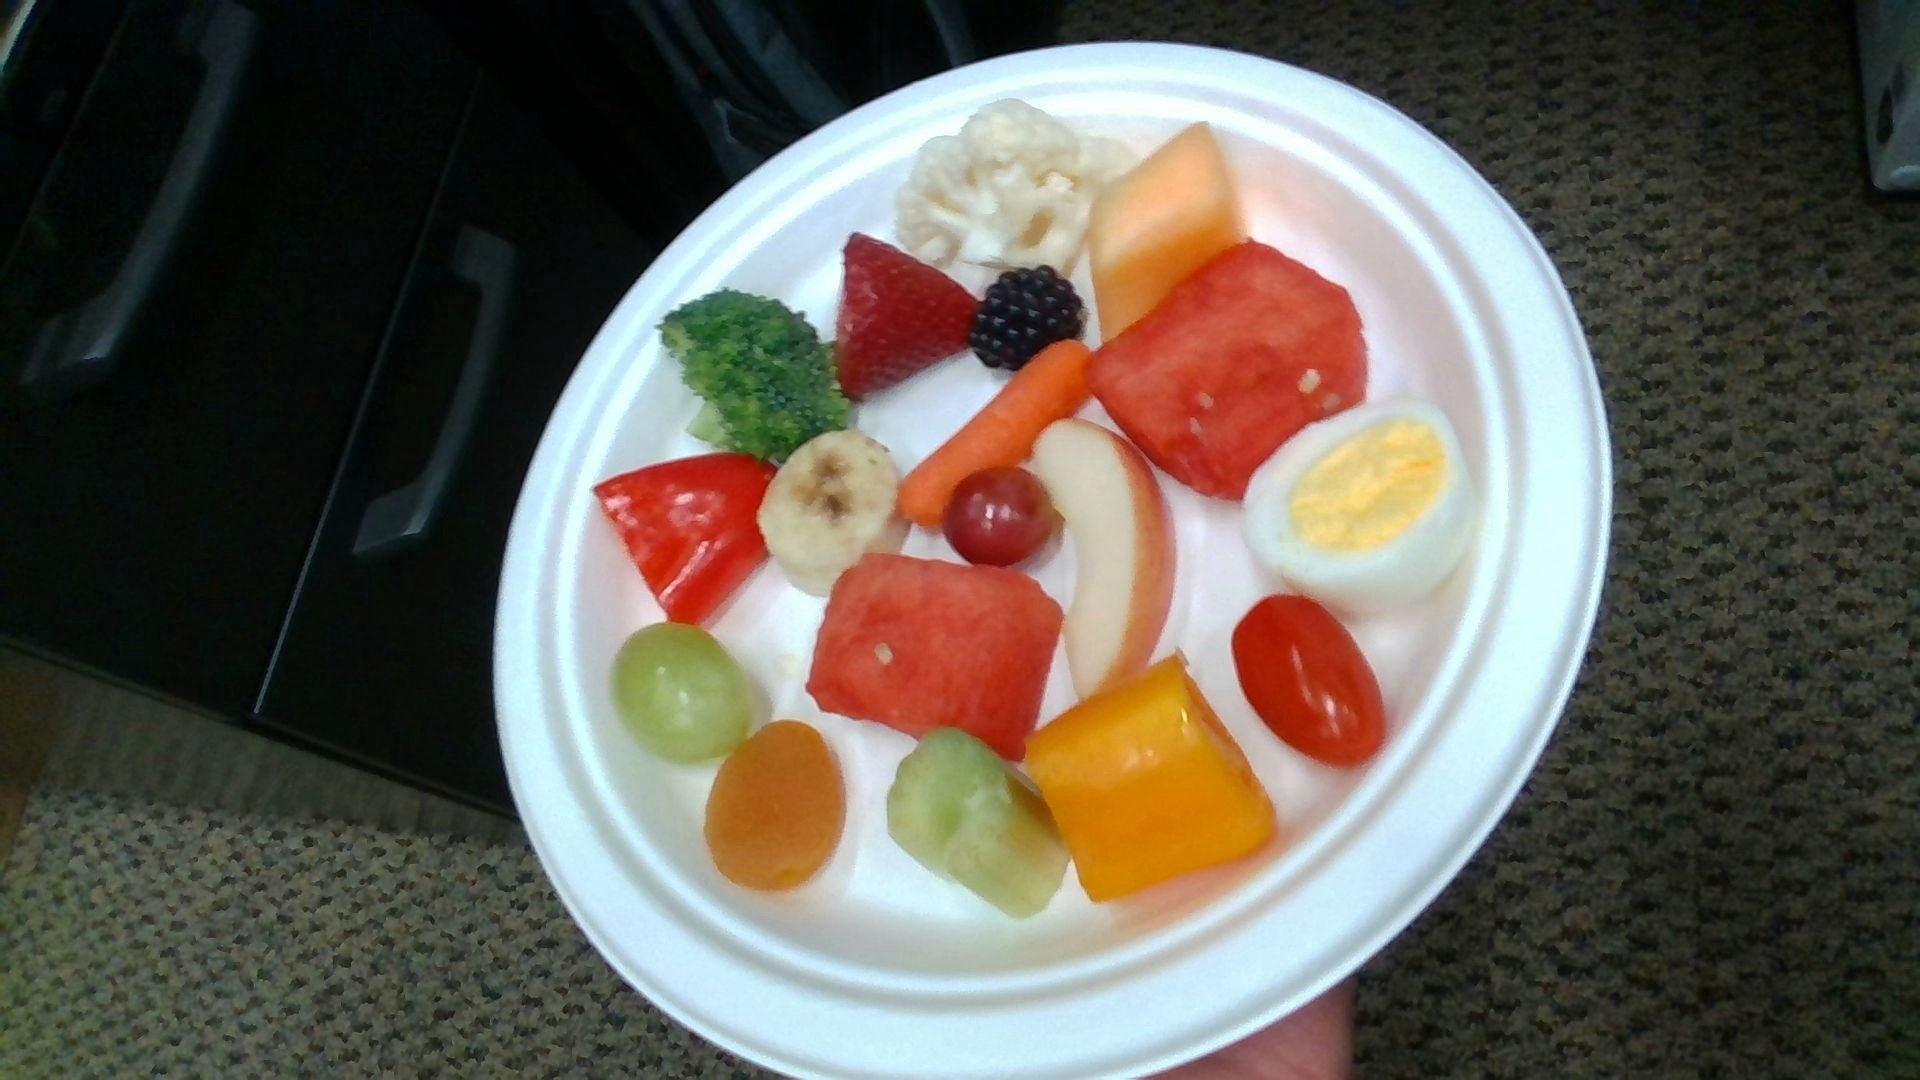apple: (1035, 421, 1174, 700)
apricot: (707, 721, 844, 891)
banana: (760, 433, 910, 589)
bell_pepper: (1030, 658, 1275, 899), (595, 456, 775, 621)
blackberry: (969, 270, 1087, 368)
broccoli: (659, 291, 855, 451)
cantalope: (1095, 125, 1240, 342)
carrot: (899, 343, 1089, 527)
cauliflower: (899, 102, 1127, 268)
celery: (889, 728, 1067, 913)
cherry_tomato: (1232, 596, 1385, 767)
egg: (1244, 400, 1476, 607)
grape_green: (615, 625, 746, 760)
grape_purple: (945, 468, 1052, 568)
melon: (1085, 245, 1364, 496), (810, 555, 1062, 761)
strawberry: (837, 231, 980, 396)
